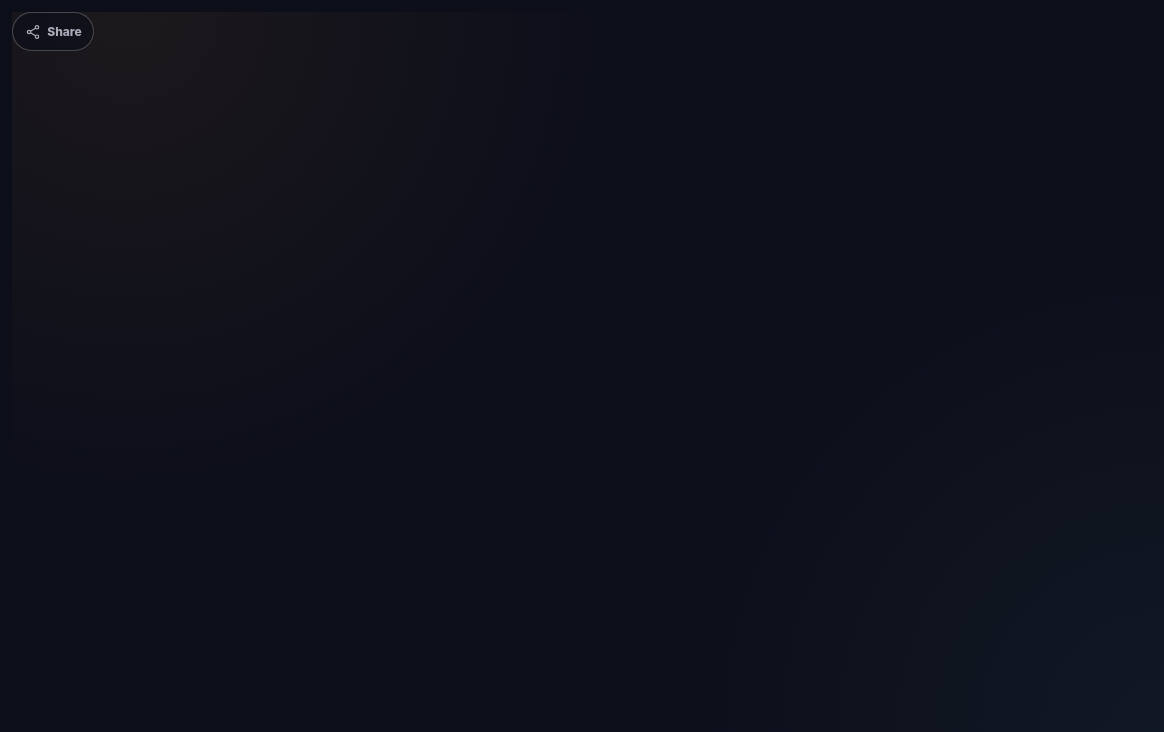
Test: ShareIdeaAction › copies the canonical Idea URL when Web Share is unavailable
Click the button "Share".
click(53, 32)  # box [12,12,94,51]
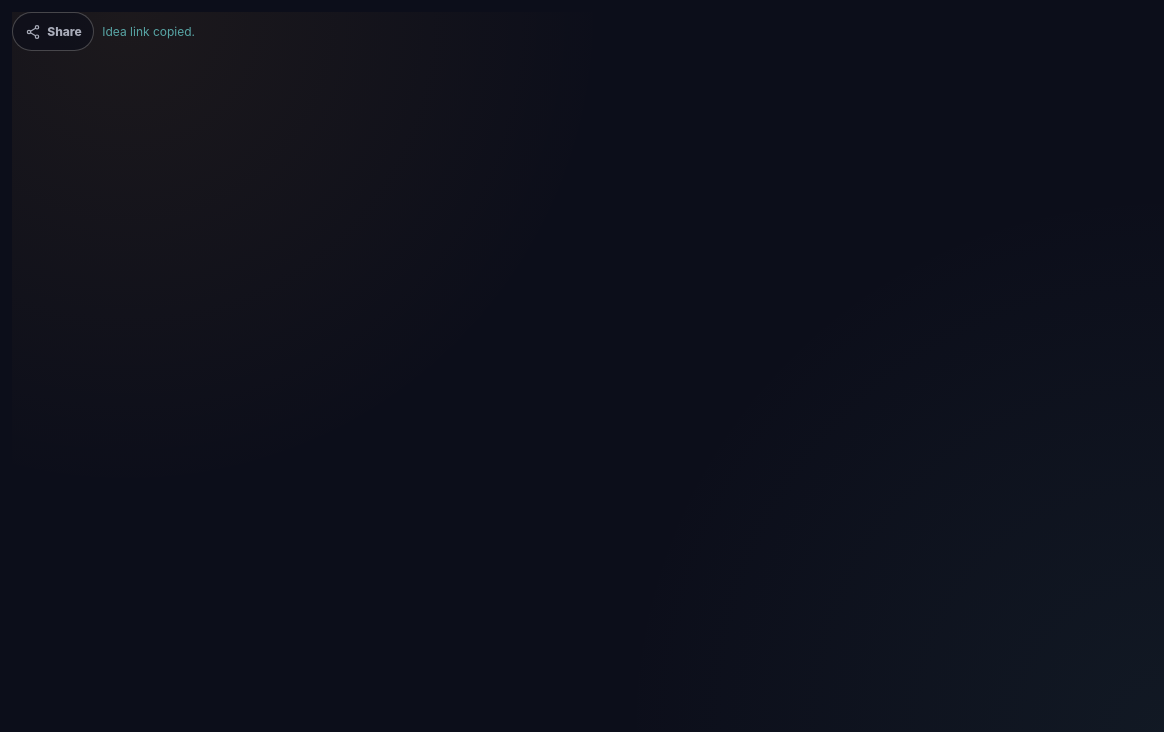
expect the message reads "Idea link copied.": met, box [102,24,195,39]
